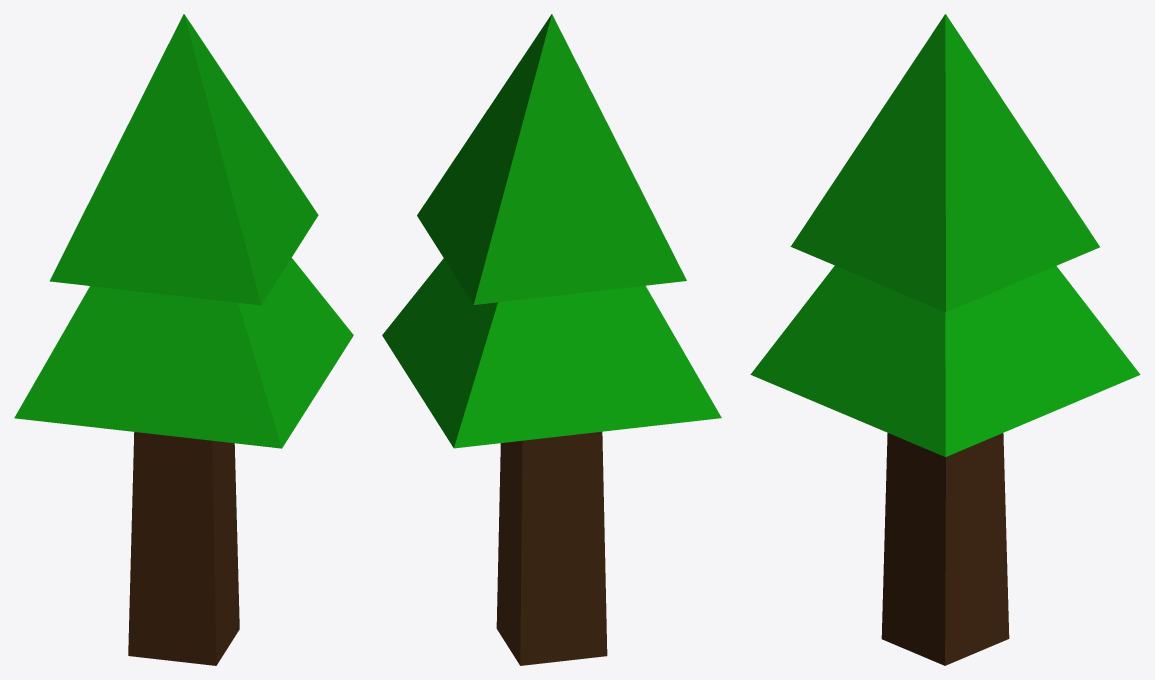
Rendered from Tree.glb.
3 renders of one model, left to right at view 1: azimuth 30°, elevation 25°; view 2: azimuth 150°, elevation 25°; view 3: azimuth 270°, elevation 25°, orthographic.
Visible parts, largest first — view 1: Cube.001; view 2: Cube.001; view 3: Cube.001.
Boxes of the visible parts, x1,y1,x2,y2 form: Cube.001: [14, 14, 353, 665]; Cube.001: [382, 14, 721, 665]; Cube.001: [750, 14, 1140, 665].
Bounding box in the file's own units: 4.8 × 8.47 × 4.8.
